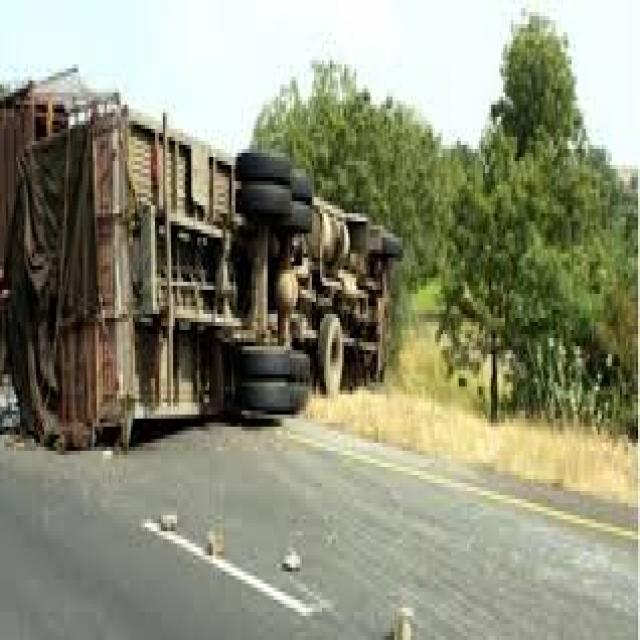accident: (8, 82, 398, 452)
